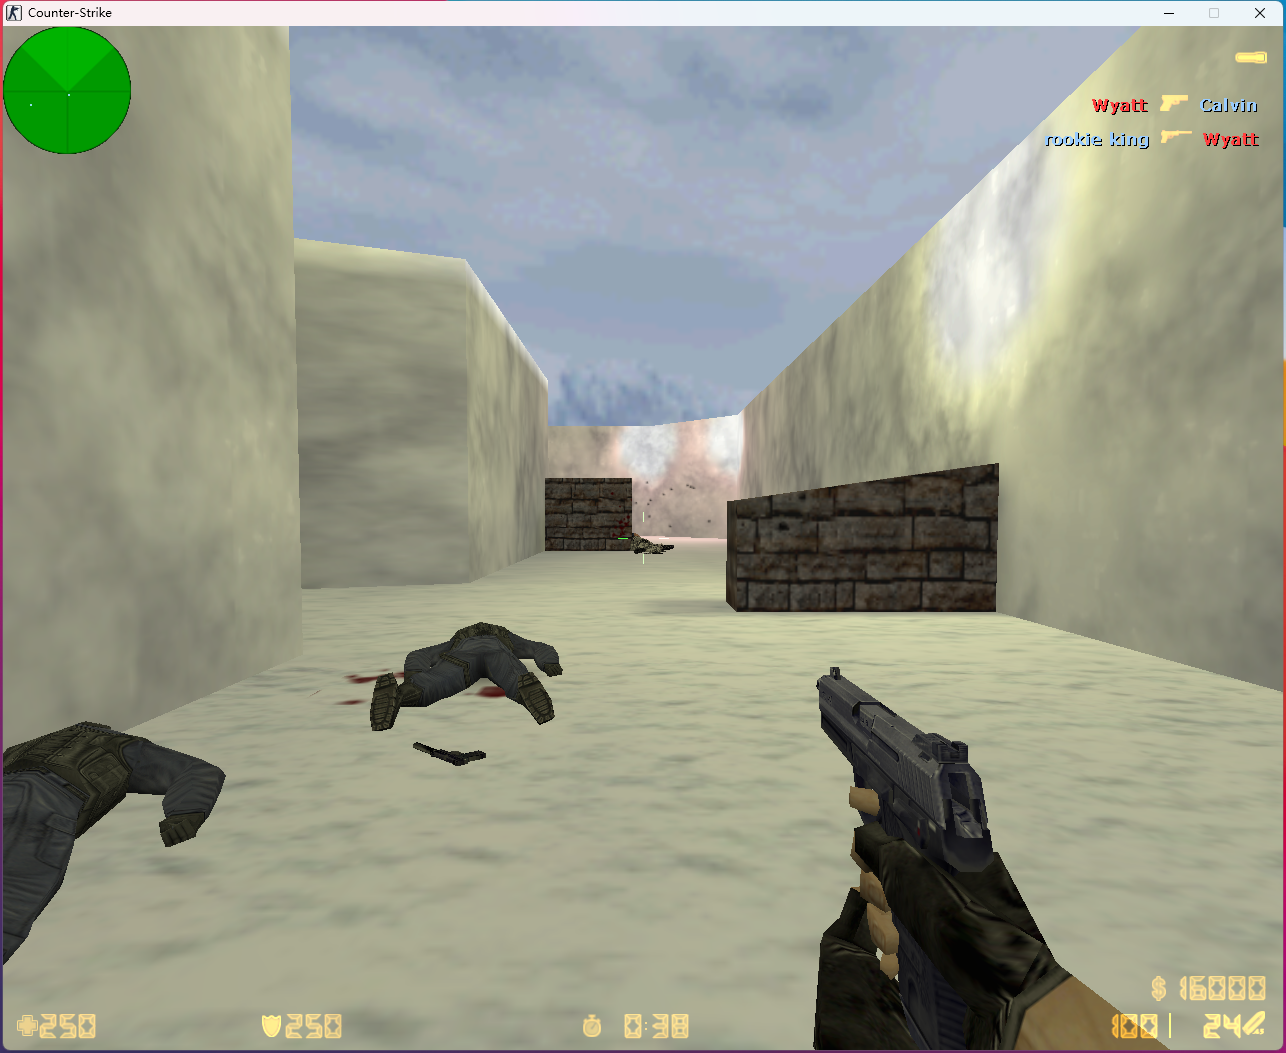dead: (1, 720, 232, 965), (368, 622, 565, 734), (625, 532, 674, 553)
weapon: (411, 740, 497, 766)
